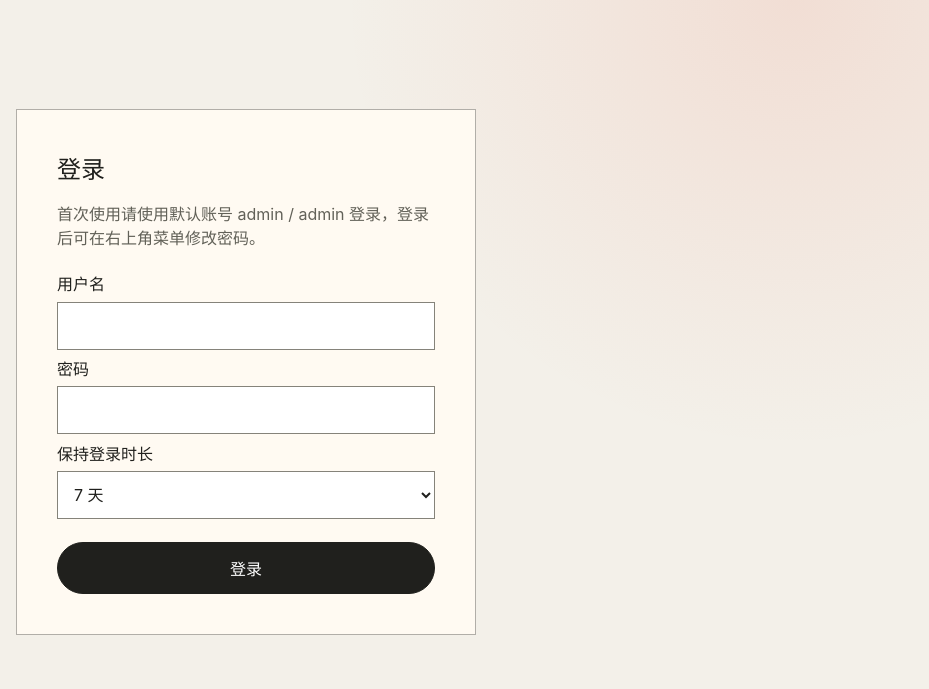
App › surfaces wrong-credential errors from the login endpoint
Type "admin" into the field labelled "用户名".
click(246, 326); type("admin")  # box [57,302,435,350]
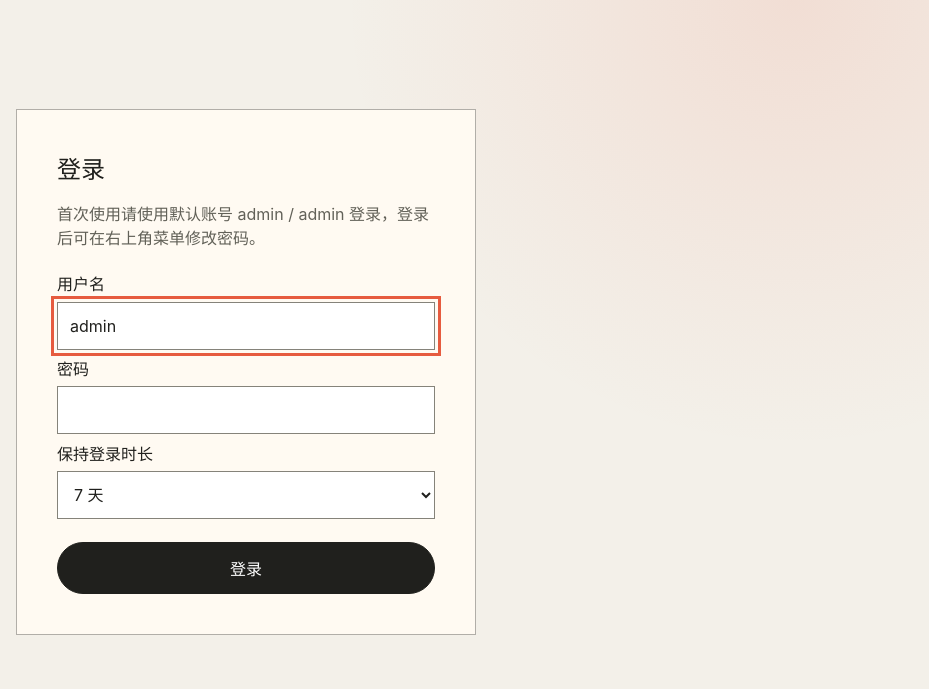
Type "wrong-pass" into the password field labelled "密码".
click(246, 410); type("wrong-pass")  # box [57,386,435,434]
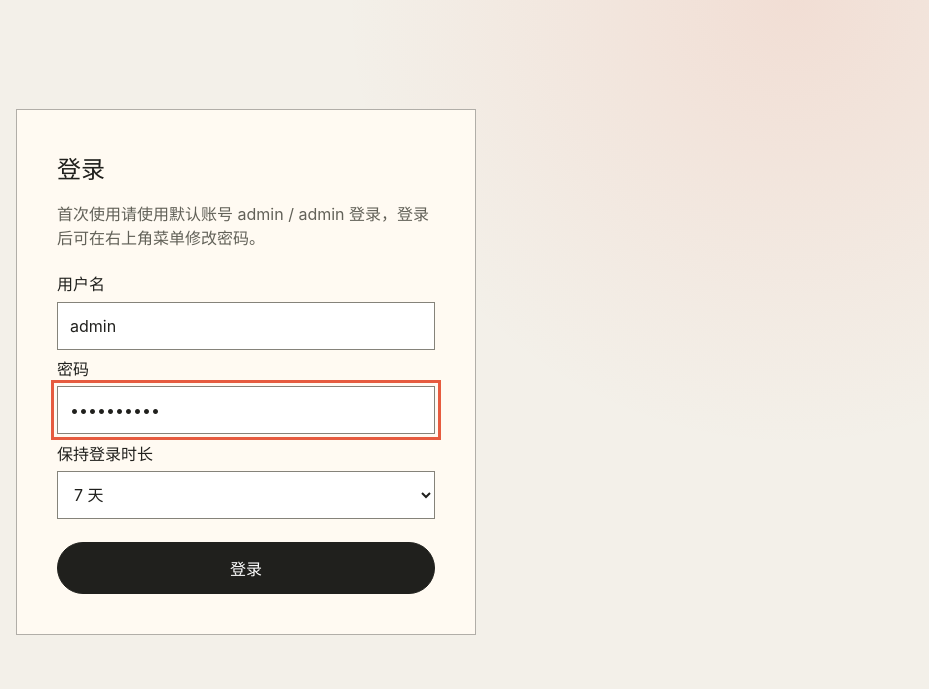
Click the button "登录".
click(246, 568)  # box [57,542,435,594]
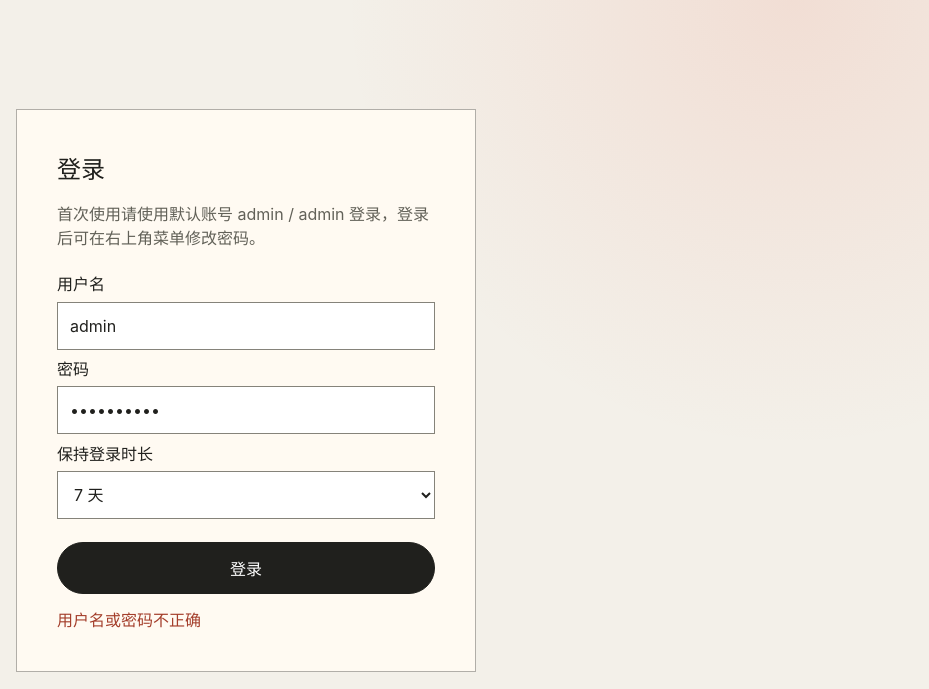
Expected: the message reads "用户名或密码不正确", [57,610,201,630]
